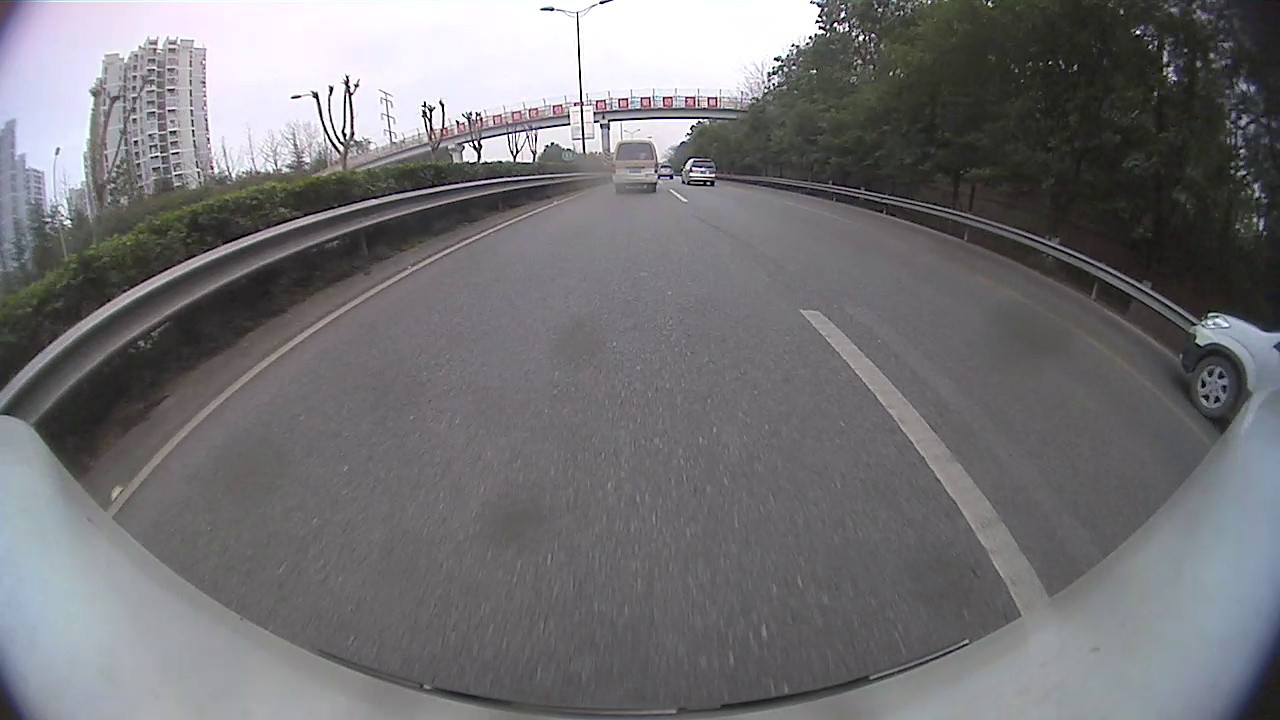car: (1179, 308, 1279, 423), (614, 139, 659, 194), (681, 157, 718, 187)
front: (1188, 356, 1242, 421)
